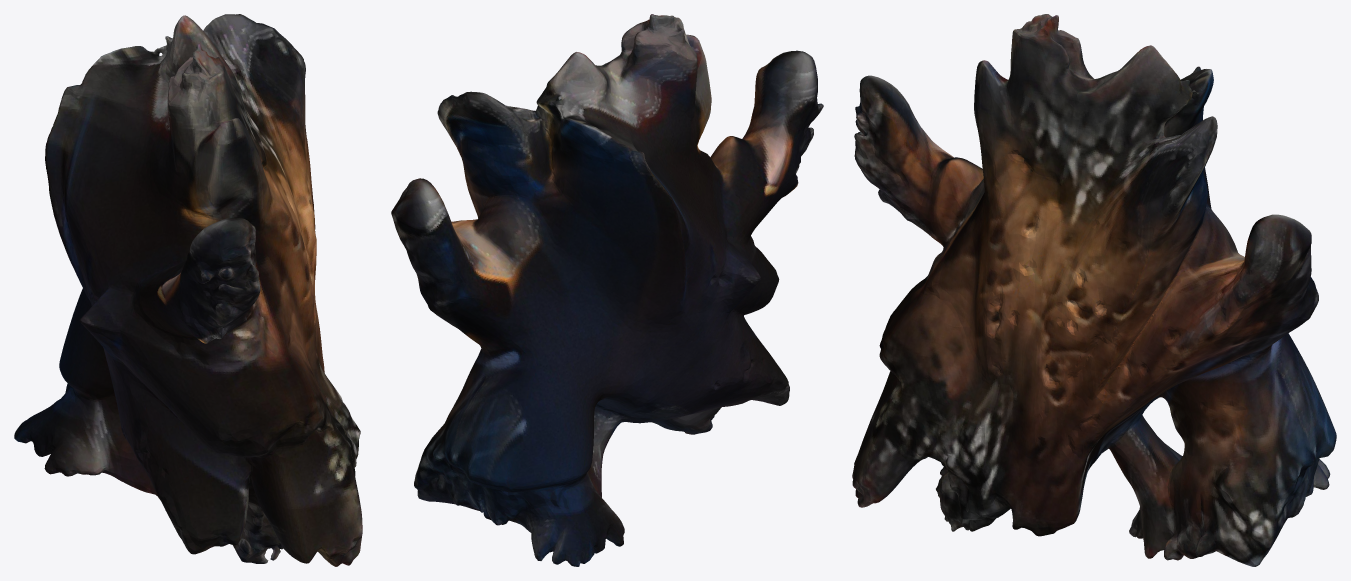
The model's file is burnt_migratory_trees.glb.
3 views of the same model, side by side, from view 1: azimuth 30°, elevation 25°; view 2: azimuth 150°, elevation 25°; view 3: azimuth 270°, elevation 25° (orthographic). The views are drawn at different scales.
Bounding box in the file's own units: 1.23 × 1.99 × 1.73.
1 material, 1 textured.
